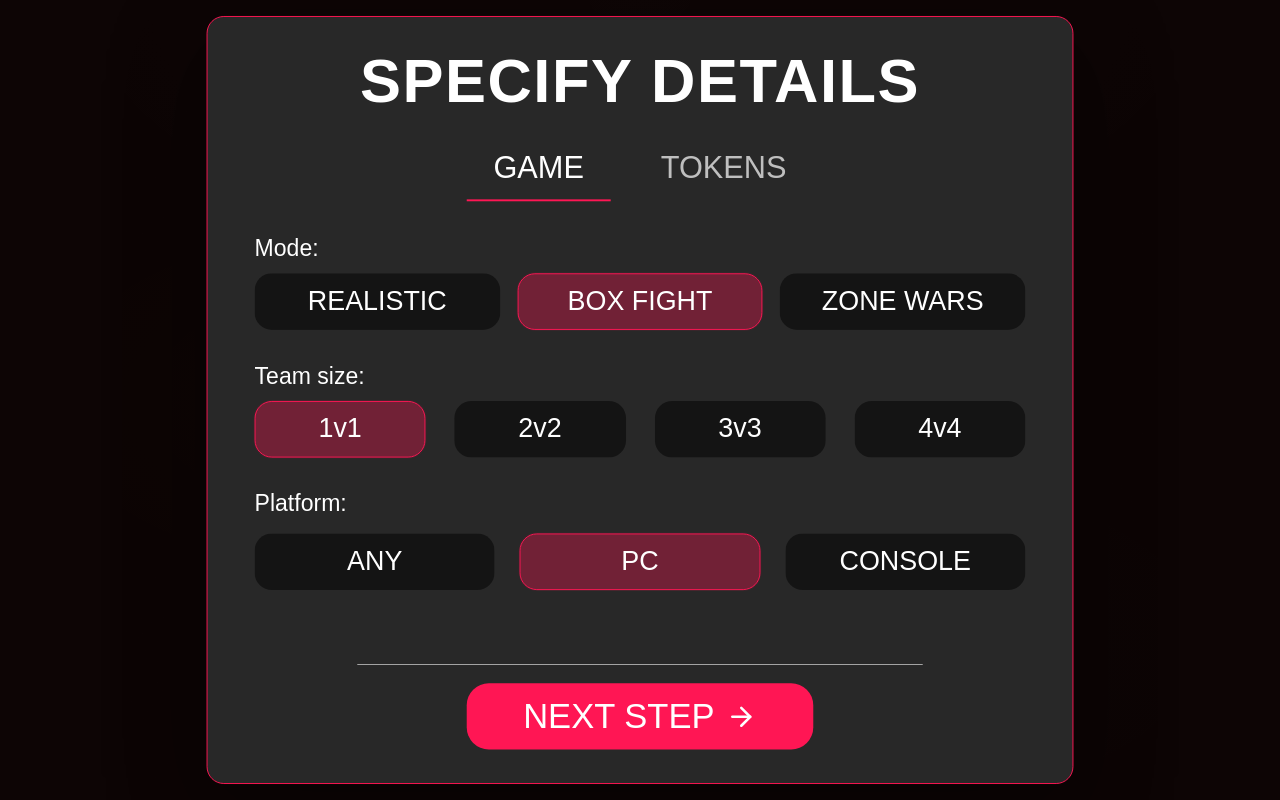
Test: CreateMatchOverlay › updates total pool and prize when the entry fee changes
The width and height of the screenshot is (1280, 800).
Step 1. Click the button "NEXT STEP" → [640, 716], box left=467, top=683, right=813, bottom=749
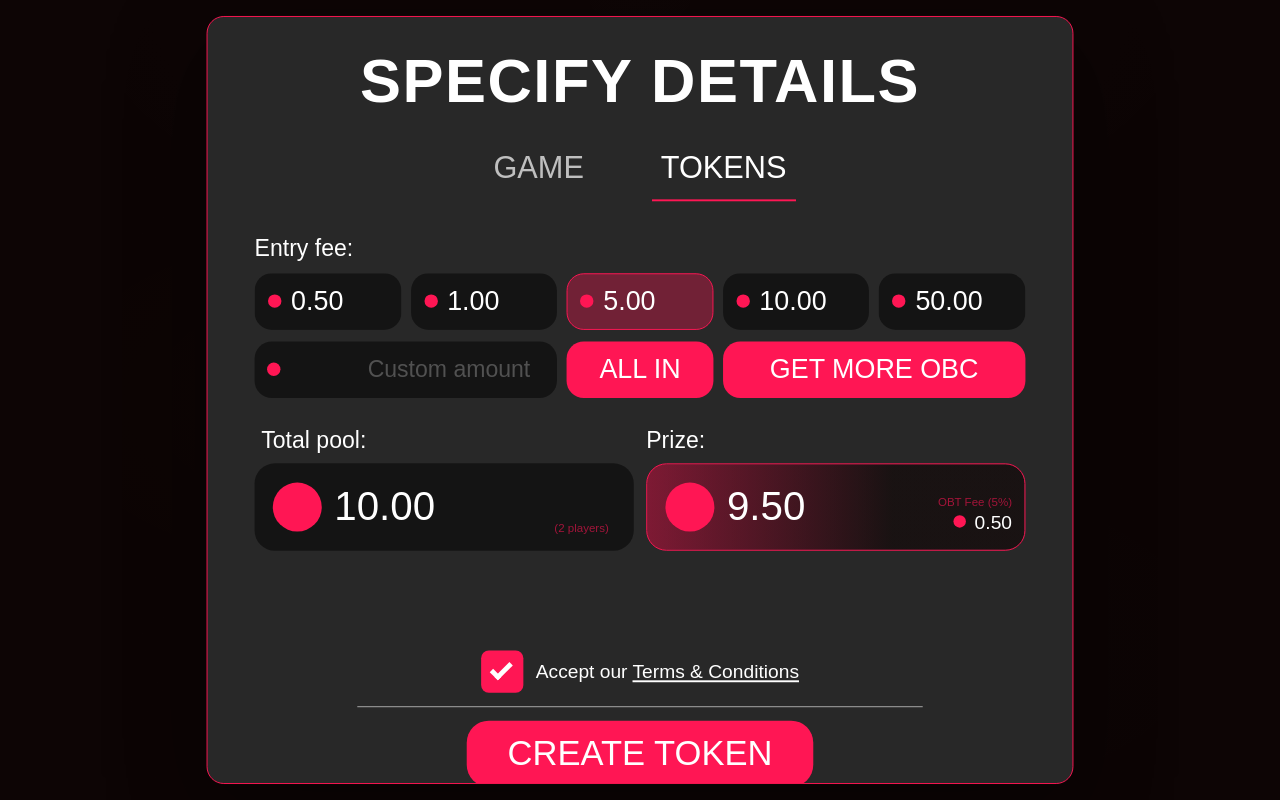
Check: the number field named "Entry fee" is shown, box left=296, top=352, right=545, bottom=387
Step 2. Click the button "10.00" → [796, 301], box left=723, top=273, right=869, bottom=330
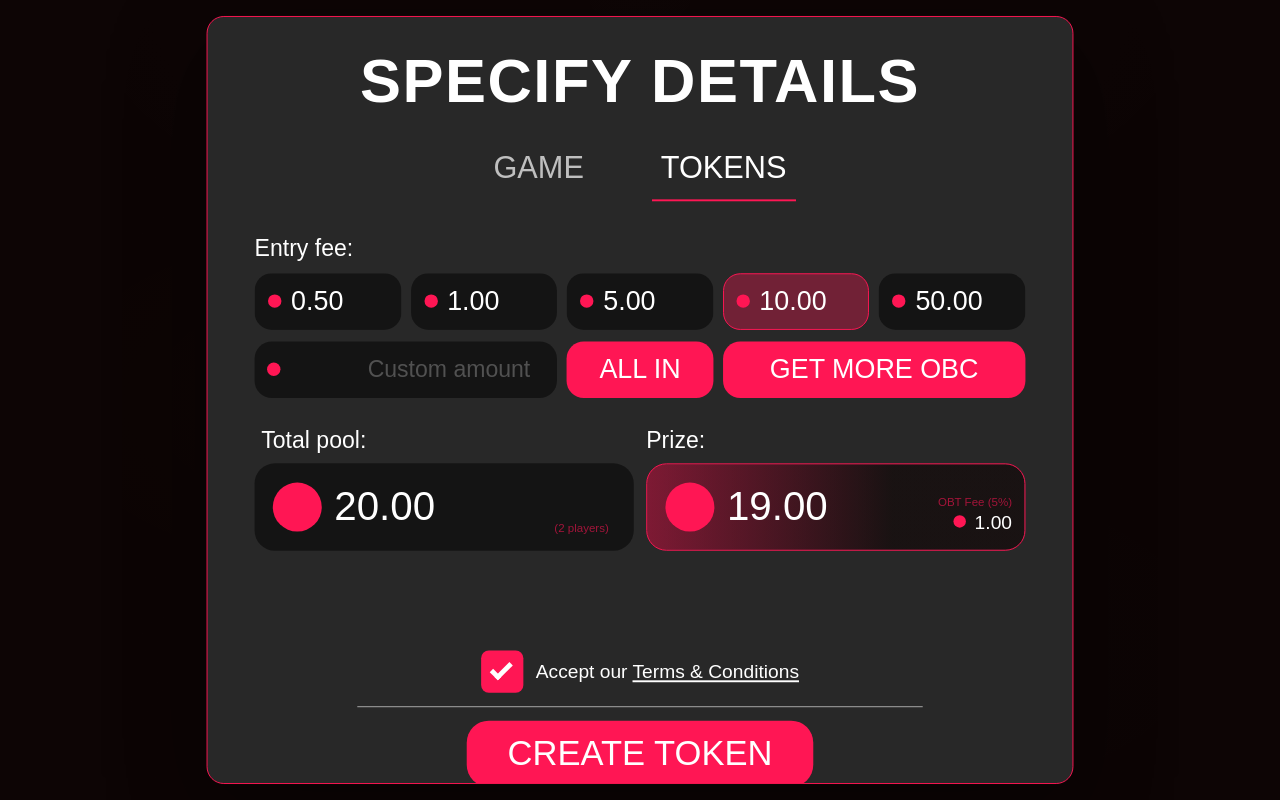
Check: the text with test id "total-pool-value" reads "20.00", box left=334, top=484, right=435, bottom=529
Check: the text with test id "prize-value" reads "19.00", box left=727, top=484, right=828, bottom=529
